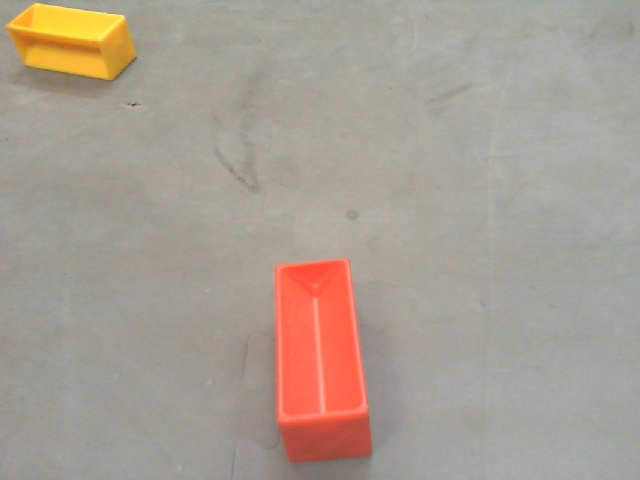RedSample: (272, 255, 374, 463)
YellowSample: (1, 1, 141, 86)
